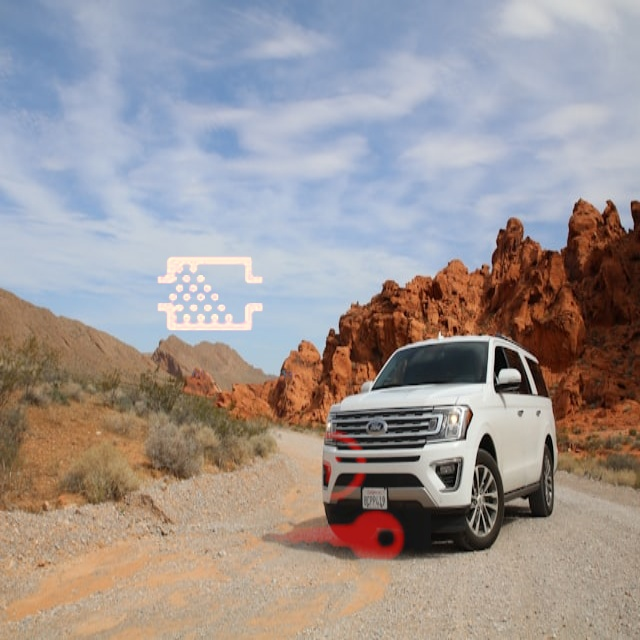symbol: (241, 404, 431, 594), (118, 202, 304, 388)
